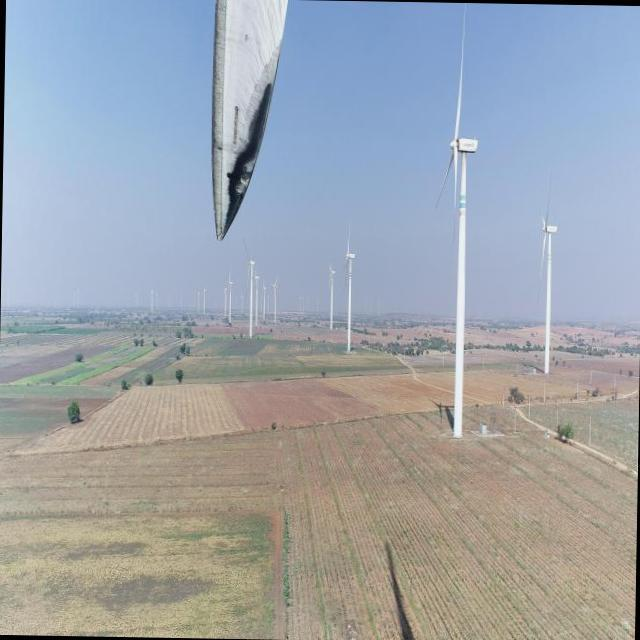Dirt: (215, 0, 290, 242)
Oil LEAKAGE: (225, 84, 272, 240)
Pin Hole: (214, 139, 227, 159), (223, 167, 235, 184)
